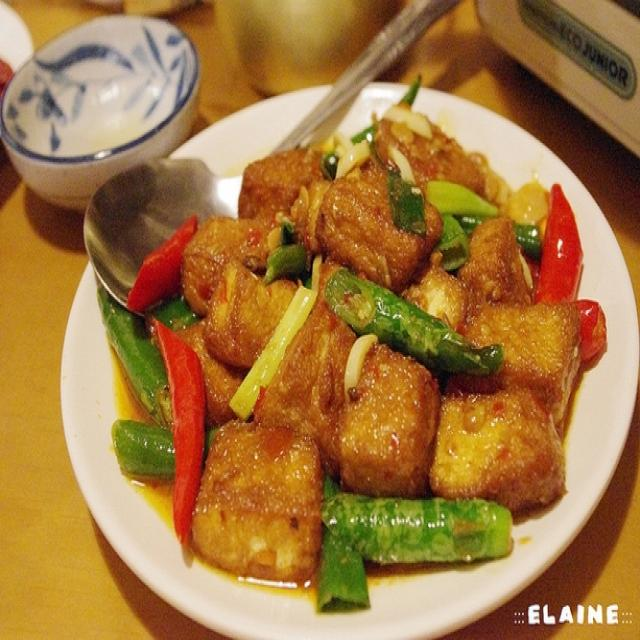豆腐料理: (22, 31, 636, 634)
